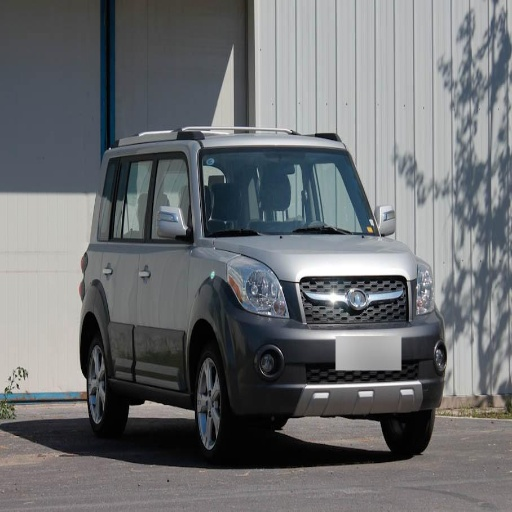front_bumper: (224, 276, 446, 420)
front_right_door: (135, 150, 193, 377)
front_right_light: (229, 260, 292, 317)
hood: (230, 236, 417, 281)
